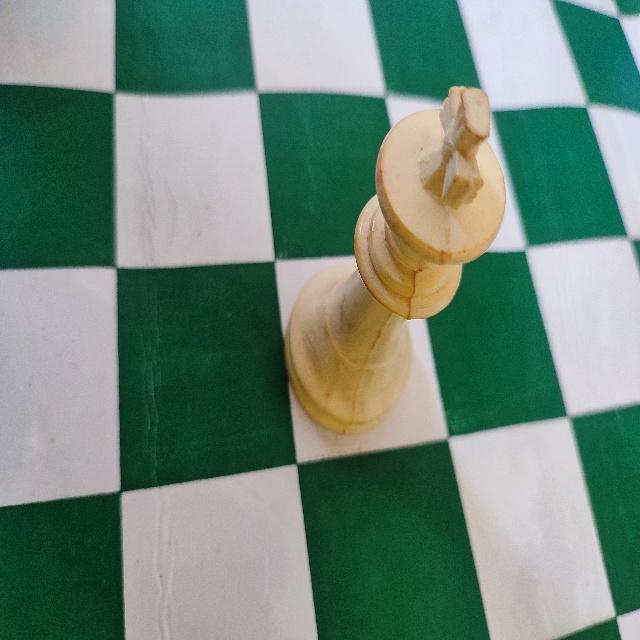King: (278, 86, 508, 438)
